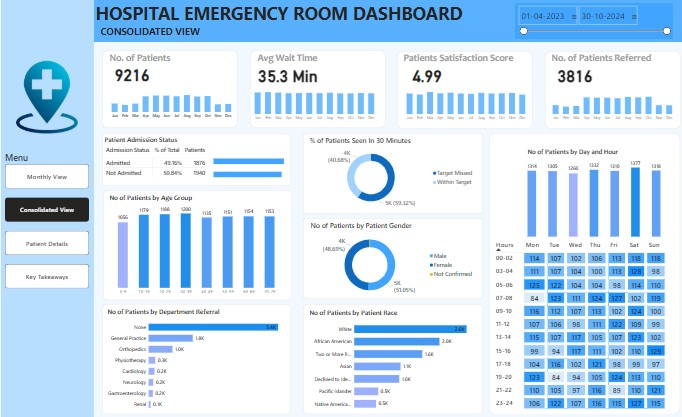

What the dashboard file says about the page in this screenshot:
{"tool":"powerbi","page":{"name":"Consolidated View","canvas":[2300,1400],"ordinal":1},"visuals":[{"type":"shape","box":[9.1,0,310,1400.5],"z":0},{"type":"shape","box":[839.3,167.5,452.4,260],"z":0,"group":"g1"},{"type":"shape","box":[348,442,630,177],"z":0,"group":"g3"},{"type":"shape","box":[350,632,630,368],"z":0,"group":"g2"},{"type":"shape","box":[1330.9,170,452.4,260],"z":1000},{"type":"pivotTable","title":"Patient Admission Status","fields":{"Rows":["Hospital ER_Data.Admission Status"],"Values":["Divide(Hospital ER_Data.No of Patients Referred, ScopedEval(Hospital ER_Data.No of Patients Referred, [Role.Columns]))","Hospital ER_Data.No of Patients Referred"]},"box":[350.5,449.5,617.5,160],"z":1000,"group":"g3"},{"type":"clusteredColumnChart","fields":{"Category":["Hospital ER_Data.Age Group"],"Y":["Date table.No of Patients"]},"box":[366,642,590,350],"z":1000,"group":"g2"},{"type":"shape","box":[1822.6,170,452.4,260],"z":2000},{"type":"barChart","fields":{"Category":["Hospital ER_Data.Admission Status"],"Y":["Hospital ER_Data.No of Patients Referred"]},"box":[715,492,252,128],"z":2000,"group":"g3"},{"type":"shape","box":[347.6,167.5,452.4,260],"z":3000},{"type":"shape","box":[319.9,0,1980.1,140],"z":4000},{"type":"textbox","box":[320.6,0,1441.2,120.6],"z":5000},{"type":"card","fields":{"Values":["Date table.Average Wait Time"]},"box":[838.6,171.3,252.5,157.5],"z":5000,"group":"g1"},{"type":"textbox","box":[336.7,76.7,380,63.3],"z":6000},{"type":"slicer","fields":{"Values":["Date table.Date"]},"box":[1723.3,10,526.7,120],"z":7000},{"type":"textbox","box":[857.5,167.5,286,62.5],"z":8000,"group":"g1"},{"type":"card","fields":{"Values":["Hospital ER_Data.Satisfaction Score"]},"box":[1330.9,170,200.2,157.5],"z":8000},{"type":"card","fields":{"Values":["Hospital ER_Data.No of Patients Referred"]},"box":[1822.6,170,200.2,157.5],"z":9000},{"type":"card","fields":{"Values":["Date table.No of Patients"]},"box":[347.6,167.5,200.2,157.5],"z":10000},{"type":"textbox","box":[1347.5,167.5,387.5,65],"z":11000},{"type":"textbox","box":[1840,167.5,365,65],"z":12000},{"type":"textbox","box":[365.8,167.5,286,62.5],"z":13000},{"type":"columnChart","fields":{"Category":["Date table.Month Name"],"Y":["Hospital ER_Data.Satisfaction Score"]},"box":[1343.3,283.3,433.3,126.7],"z":14000},{"type":"columnChart","fields":{"Y":["Hospital ER_Data.No of Patients Referred"],"Category":["Date table.Month Name"]},"box":[1830,283.3,436.7,126.7],"z":15000},{"type":"group","id":"g1","title":"Group 1","box":[838.6,167.5,453.1,260],"z":16000},{"type":"columnChart","fields":{"Y":["Date table.No of Patients"],"Category":["Date table.Month Name"]},"box":[360,276.7,436.7,126.7],"z":17000},{"type":"columnChart","fields":{"Y":["Avg(Hospital ER_Data.Patient Waittime)"],"Category":["Date table.Month Name"]},"box":[836.7,286.7,436.7,123.3],"z":18000},{"type":"shape","box":[347.8,1012.8,630,368],"z":19000},{"type":"group","id":"g2","title":"Group 2","box":[350,632,630,368],"z":20000},{"type":"group","id":"g3","title":"Group 3","box":[348,442,630,178],"z":21000},{"type":"clusteredBarChart","fields":{"Y":["Date table.No of Patients"],"Category":["Hospital ER_Data.Department Referral"]},"box":[360.2,1024.2,606.7,356.9],"z":22000},{"type":"shape","box":[1015.7,1012.9,600,367.8],"z":23000},{"type":"shape","box":[1015.9,727.2,600,270],"z":24000},{"type":"donutChart","fields":{"Category":["Hospital ER_Data.Patient Gender"],"Y":["Date table.No of Patients"]},"box":[1035,735,557.5,262.5],"z":25000},{"type":"clusteredBarChart","fields":{"Y":["Date table.No of Patients"],"Category":["Hospital ER_Data.Patient Race"]},"box":[1032.5,1025,562.5,355],"z":26000},{"type":"shape","box":[1015.7,442,600,270],"z":27000},{"type":"donutChart","title":"% of Patients Seen In 30 Minutes","fields":{"Y":["Date table.No of Patients"],"Category":["Hospital ER_Data.Waittime Status"]},"box":[1032.4,452.9,561.8,247.1],"z":28000},{"type":"shape","box":[1635,442.5,637.5,937.5],"z":29000},{"type":"pivotTable","fields":{"Rows":["Hospital ER_Data.Waittime Interval"],"Columns":["Date table.Day Name"],"Values":["Date table.No of Patients"]},"box":[1650,794,606,586],"z":30000},{"type":"columnChart","title":"No of Patients by Day and Hour","fields":{"Category":["Date table.Day Name"],"Y":["Date table.No of Patients"]},"box":[1760,522.5,455,272.5],"z":31000},{"type":"image","box":[36.7,93.3,253.3,460],"z":32000},{"type":"pageNavigator","box":[23.3,503.3,280,460],"z":32001}]}

Visuals, with their boxes in screenshot pixels (x1, y1, x2, y2), scaled from the page's 2300x1400 canvas onto the 682x417 screenshot:
shape: [3, 0, 95, 416]
shape: [249, 50, 383, 127]
shape: [103, 132, 290, 184]
shape: [104, 188, 291, 298]
shape: [395, 51, 529, 128]
"Patient Admission Status" pivotTable: [104, 134, 287, 182]
clusteredColumnChart - Hospital ER_Data.Age Group x Date table.No of Patients: [109, 191, 283, 295]
shape: [540, 51, 675, 128]
barChart - Hospital ER_Data.Admission Status x Hospital ER_Data.No of Patients Referred: [212, 147, 287, 185]
shape: [103, 50, 237, 127]
shape: [95, 0, 681, 42]
textbox: [95, 0, 522, 36]
card - Date table.Average Wait Time: [249, 51, 324, 98]
textbox: [100, 23, 213, 42]
slicer - Date table.Date: [511, 3, 667, 39]
textbox: [254, 50, 339, 69]
card - Hospital ER_Data.Satisfaction Score: [395, 51, 454, 98]
card - Hospital ER_Data.No of Patients Referred: [540, 51, 600, 98]
card - Date table.No of Patients: [103, 50, 162, 97]
textbox: [400, 50, 514, 69]
textbox: [546, 50, 654, 69]
textbox: [108, 50, 193, 69]
columnChart - Date table.Month Name x Hospital ER_Data.Satisfaction Score: [398, 84, 527, 122]
columnChart - Hospital ER_Data.No of Patients Referred x Date table.Month Name: [543, 84, 672, 122]
"Group 1" group: [249, 50, 383, 127]
columnChart - Date table.No of Patients x Date table.Month Name: [107, 82, 236, 120]
columnChart - Avg(Hospital ER_Data.Patient Waittime) x Date table.Month Name: [248, 85, 378, 122]
shape: [103, 302, 290, 411]
"Group 2" group: [104, 188, 291, 298]
"Group 3" group: [103, 132, 290, 185]
clusteredBarChart - Date table.No of Patients x Hospital ER_Data.Department Referral: [107, 305, 287, 411]
shape: [301, 302, 479, 411]
shape: [301, 217, 479, 297]
donutChart - Hospital ER_Data.Patient Gender x Date table.No of Patients: [307, 219, 472, 297]
clusteredBarChart - Date table.No of Patients x Hospital ER_Data.Patient Race: [306, 305, 473, 411]
shape: [301, 132, 479, 212]
"% of Patients Seen In 30 Minutes" donutChart: [306, 135, 473, 208]
shape: [485, 132, 674, 411]
pivotTable - Hospital ER_Data.Waittime Interval x Date table.Day Name: [489, 236, 669, 411]
"No of Patients by Day and Hour" columnChart: [522, 156, 657, 237]
image: [11, 28, 86, 165]
pageNavigator: [7, 150, 90, 287]
